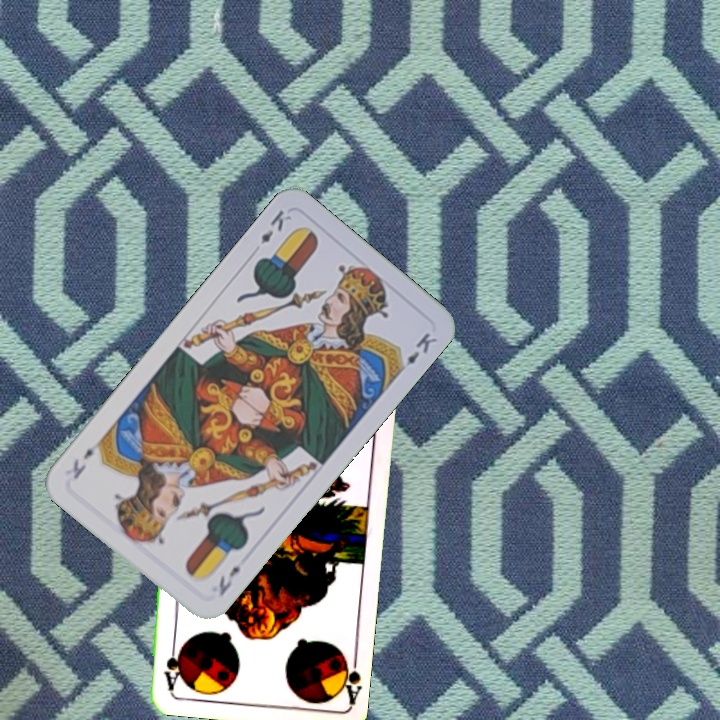EK: (256, 206, 294, 247), (214, 562, 244, 599)
SA: (333, 646, 363, 706)
